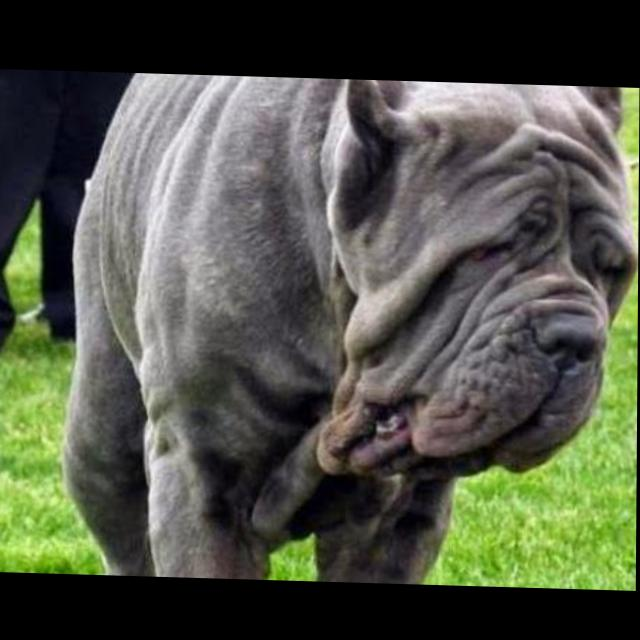mastino_napoletano: (62, 71, 640, 587)
